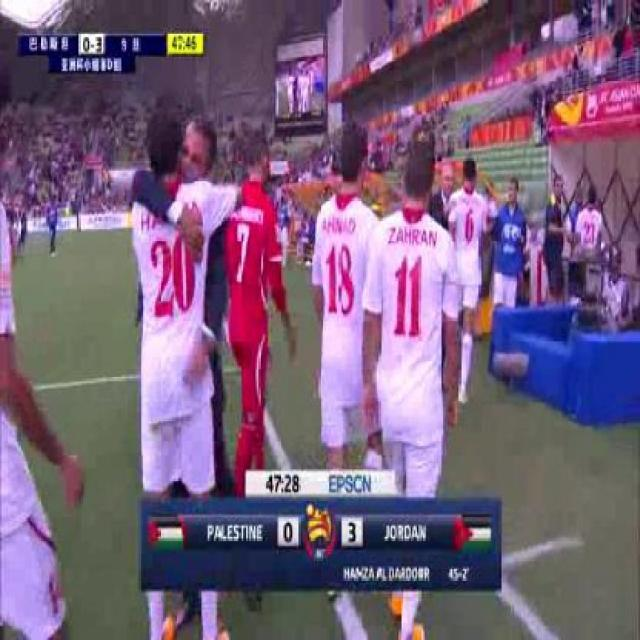player: (364, 134, 461, 467), (308, 121, 381, 471), (227, 133, 289, 467), (452, 159, 490, 405)
